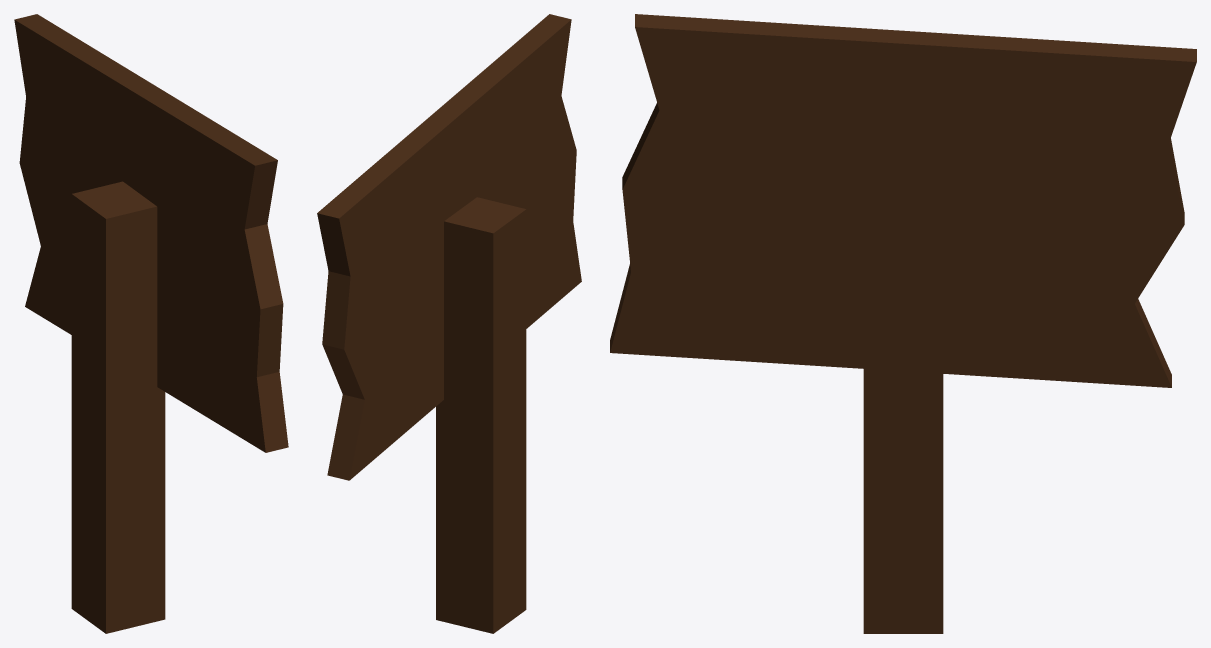
The model's file is Sign.glb.
The picture shows the model from 3 angles, left to right: view 1: azimuth 30°, elevation 25°; view 2: azimuth 150°, elevation 25°; view 3: azimuth 270°, elevation 25°; orthographic projection. The views are drawn at different scales.
Visible parts, largest first — view 1: Cube.001, Cube; view 2: Cube.001, Cube; view 3: Cube.001, Cube.
Part boxes in pixels (bbox=[...]): Cube.001: bbox=[14, 14, 288, 452]; Cube: bbox=[71, 181, 165, 633]; Cube.001: bbox=[317, 14, 581, 480]; Cube: bbox=[436, 197, 526, 633]; Cube.001: bbox=[610, 14, 1196, 387]; Cube: bbox=[863, 369, 943, 633].
Size of the model in its own units: 0.1443 by 0.9822 by 0.8488.
